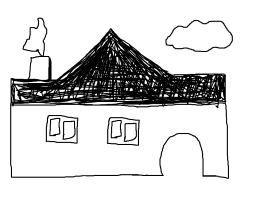closed_window: (40, 111, 88, 149), (101, 113, 143, 155)
clouds: (154, 5, 244, 58)
door: (154, 127, 206, 180)
shaded_roof: (8, 24, 233, 111)
smoking_chimney: (15, 11, 63, 86)
wall: (5, 98, 234, 183)
